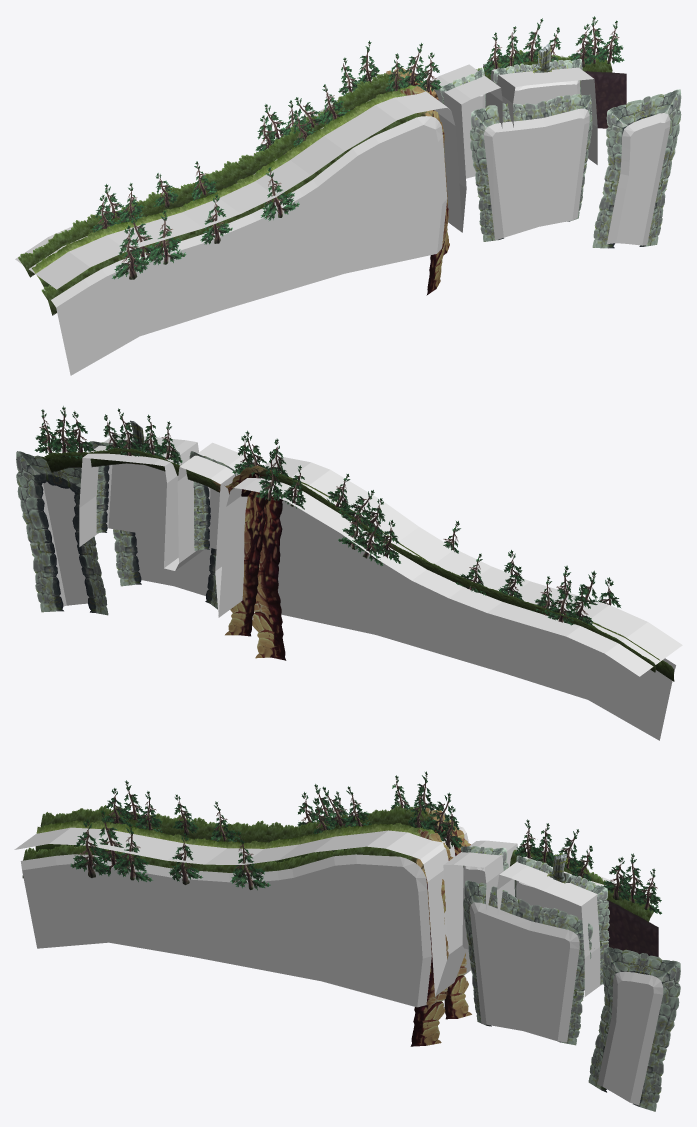
Rendered from LVL10 Ruins Pt1.FBX.
3 renders of one model, top to bottom at view 1: azimuth 30°, elevation 25°; view 2: azimuth 150°, elevation 25°; view 3: azimuth 330°, elevation 25°, orthographic. The views are drawn at different scales.
Parts seen in each view (by area): view 1: LVL 10 Black Pt1_1, Lvl 10 Col Pt1, LVL 10 Black Pt1_2 (×2), LVL10_Land Pt 1 BG, LVL10_Ruins Pt1 FG_2, LVL10_Ruins Pt1 FG_1, LVL10 Trees Pt1_FG, LVL10_Land Pt 1, LVL10_Land Pt 1 FG, LVL10 Trees Pt1_5, LVL10 Trees Pt1_1, LVL10 Trees Pt1_2BG (+6 smaller); view 2: LVL 10 Black Pt1_1, Lvl 10 Col Pt1, LVL10_Ruins Pt1 FG_2, LVL 10 Black Pt1_2 (×2), LVL10_Land Pt 1 BG, LVL 10 Black Middle Pt 1_2, LVL10_Land Pt 1 FG, LVL10 Trees Pt1_5, LVL10_Land Pt 1, LVL10 Trees Pt1_2BG, LVL10_Ruins Pt1, LVL10 Trees Pt1_1 (+5 smaller); view 3: LVL 10 Black Pt1_1, LVL 10 Black Pt1_2 (×2), Lvl 10 Col Pt1, LVL10_Land Pt 1 BG, LVL10_Ruins Pt1 FG_2, LVL10_Land Pt 1 FG, LVL10_Land Pt 1, LVL10 Trees Pt1_FG, LVL10_Ruins Pt1 FG_1, LVL10 Trees Pt1_5, LVL10 Trees Pt1_1, LVL 10 Rock BG Pt1 (+6 smaller).
Part boxes in pixels (bbox=[...]): LVL 10 Black Pt1_1: bbox=[51, 116, 447, 375]; Lvl 10 Col Pt1: bbox=[15, 55, 597, 289]; LVL 10 Black Pt1_2 (×2): bbox=[483, 108, 670, 245]; LVL10_Land Pt 1 BG: bbox=[18, 50, 612, 277]; LVL10_Ruins Pt1 FG_2: bbox=[592, 89, 681, 248]; LVL10_Ruins Pt1 FG_1: bbox=[470, 94, 592, 241]; LVL10 Trees Pt1_FG: bbox=[112, 167, 299, 279]; LVL10_Land Pt 1: bbox=[31, 85, 449, 286]; LVL10_Land Pt 1 FG: bbox=[41, 110, 448, 315]; LVL10 Trees Pt1_5: bbox=[484, 16, 624, 74]; LVL10 Trees Pt1_1: bbox=[92, 161, 216, 232]; LVL10 Trees Pt1_2BG: bbox=[255, 40, 379, 151]; LVL 10 Black Pt1_1: bbox=[278, 500, 675, 740]; Lvl 10 Col Pt1: bbox=[79, 433, 682, 676]; LVL10_Ruins Pt1 FG_2: bbox=[16, 451, 108, 615]; LVL 10 Black Pt1_2 (×2): bbox=[41, 481, 211, 606]; LVL10_Land Pt 1 BG: bbox=[41, 448, 656, 672]; LVL 10 Black Middle Pt 1_2: bbox=[106, 463, 166, 538]; LVL10_Land Pt 1 FG: bbox=[252, 495, 674, 681]; LVL10 Trees Pt1_5: bbox=[34, 406, 182, 464]; LVL10_Land Pt 1: bbox=[225, 477, 661, 669]; LVL10 Trees Pt1_2BG: bbox=[256, 451, 400, 565]; LVL10_Ruins Pt1: bbox=[89, 441, 235, 550]; LVL10 Trees Pt1_1: bbox=[456, 553, 594, 626]; LVL 10 Black Pt1_1: bbox=[20, 854, 431, 1007]; LVL 10 Black Pt1_2 (×2): bbox=[469, 902, 663, 1105]; Lvl 10 Col Pt1: bbox=[14, 826, 614, 996]; LVL10_Land Pt 1 BG: bbox=[40, 804, 653, 921]; LVL10_Ruins Pt1 FG_2: bbox=[588, 947, 680, 1111]; LVL10_Land Pt 1 FG: bbox=[22, 844, 448, 1046]; LVL10_Land Pt 1: bbox=[35, 820, 471, 1019]; LVL10 Trees Pt1_FG: bbox=[70, 809, 270, 890]; LVL10_Ruins Pt1 FG_1: bbox=[463, 880, 592, 1045]; LVL10 Trees Pt1_5: bbox=[514, 819, 661, 914]; LVL10 Trees Pt1_1: bbox=[104, 780, 236, 842]; LVL 10 Rock BG Pt1: bbox=[606, 899, 658, 957].
Size of the model in its own units: 11075 by 1370 by 4025.
